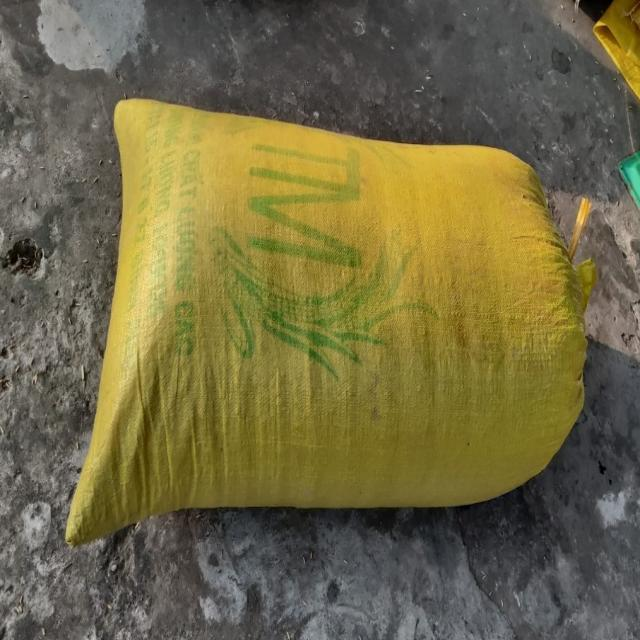gunny_bag: (65, 100, 595, 546)
